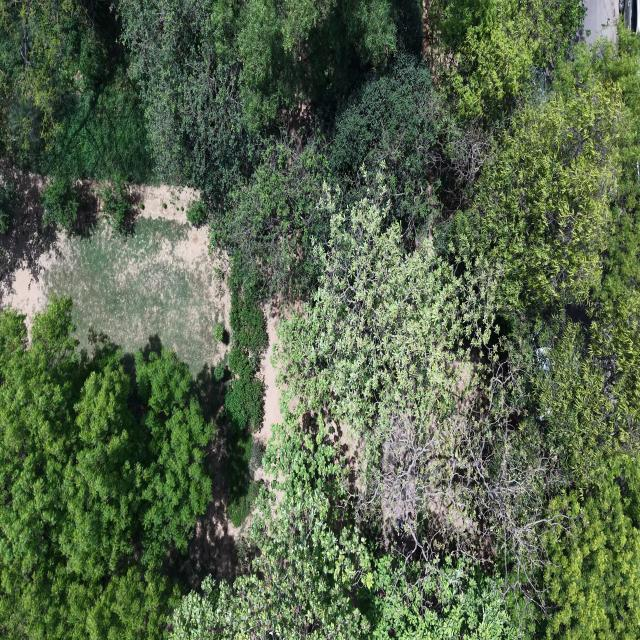DRY_AREA: (0, 176, 230, 417), (0, 176, 229, 381), (0, 187, 229, 375)
VEGETATION_TREE: (0, 0, 639, 639), (174, 44, 638, 637), (279, 175, 507, 562), (172, 406, 516, 639), (0, 299, 212, 638), (118, 0, 398, 194), (455, 80, 621, 313), (0, 215, 227, 377), (117, 0, 256, 204), (0, 0, 153, 181), (330, 55, 477, 238), (232, 0, 397, 127), (426, 0, 585, 123), (211, 137, 330, 296), (546, 456, 639, 638), (135, 351, 213, 565), (331, 54, 451, 188), (42, 52, 154, 183), (224, 266, 267, 526), (225, 283, 267, 432), (226, 430, 260, 527), (41, 176, 79, 230), (101, 175, 133, 232), (0, 174, 17, 234), (186, 199, 208, 227), (213, 323, 226, 342), (213, 362, 225, 381), (162, 202, 167, 210)
